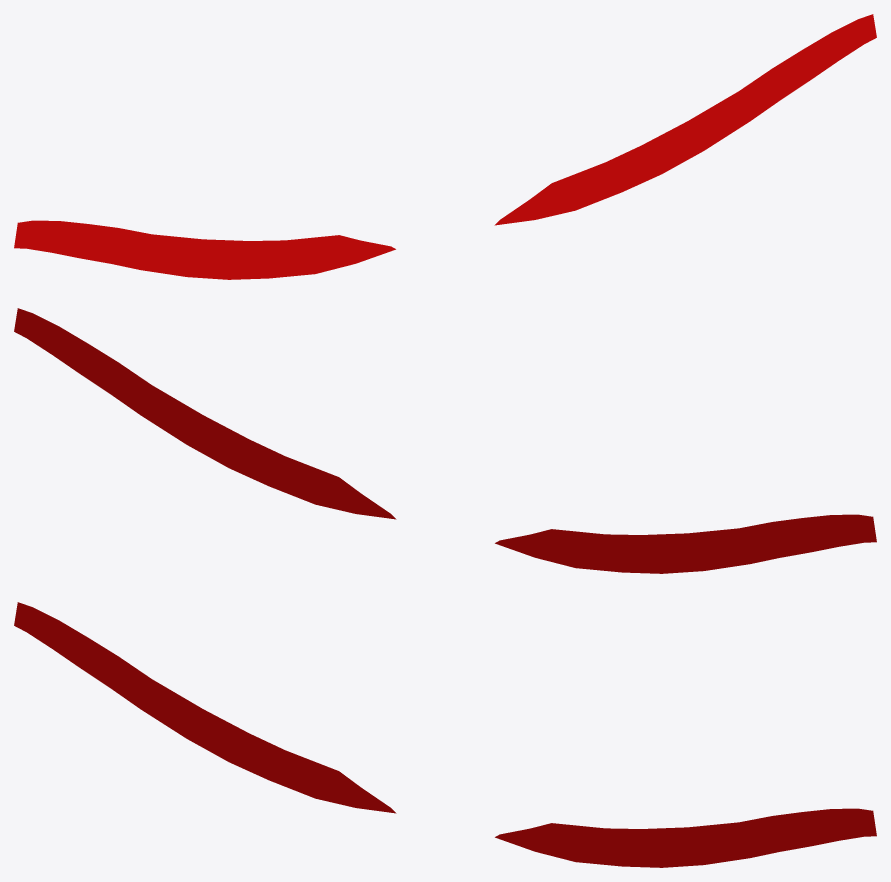
Rendered from frame101.fbx.
The picture shows the model from 3 angles, top to bottom: view 1: azimuth 30°, elevation 25°; view 2: azimuth 150°, elevation 25°; view 3: azimuth 330°, elevation 25°; orthographic projection.
Parts seen in each view (by area): view 1: MaterialLayer; view 2: MaterialLayer; view 3: MaterialLayer.
Boxes of the visible parts, x1,y1,x2,y2 form: MaterialLayer: (14,14,876,279); MaterialLayer: (14,308,876,573); MaterialLayer: (14,602,876,867).
Bounding box in the file's own units: 1361 × 187 × 1.46e-11.
